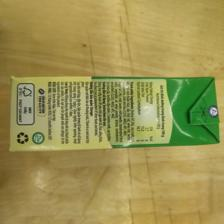NSPN_Hop: (4, 74, 221, 154)
